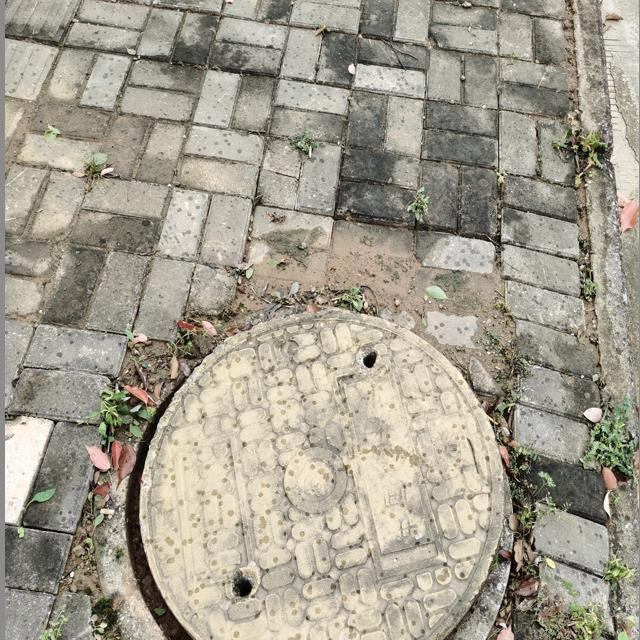uncovered: (96, 304, 516, 640)
